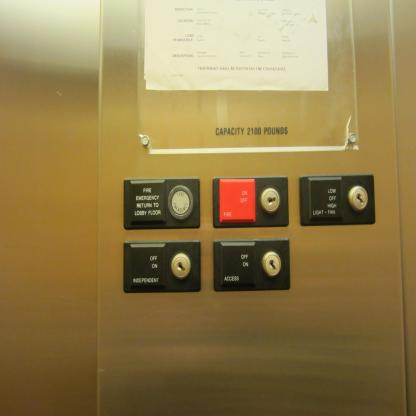bt_keyhole: (296, 172, 378, 228), (122, 238, 202, 294), (210, 174, 290, 230), (211, 236, 291, 292)
text: (121, 176, 202, 232)
